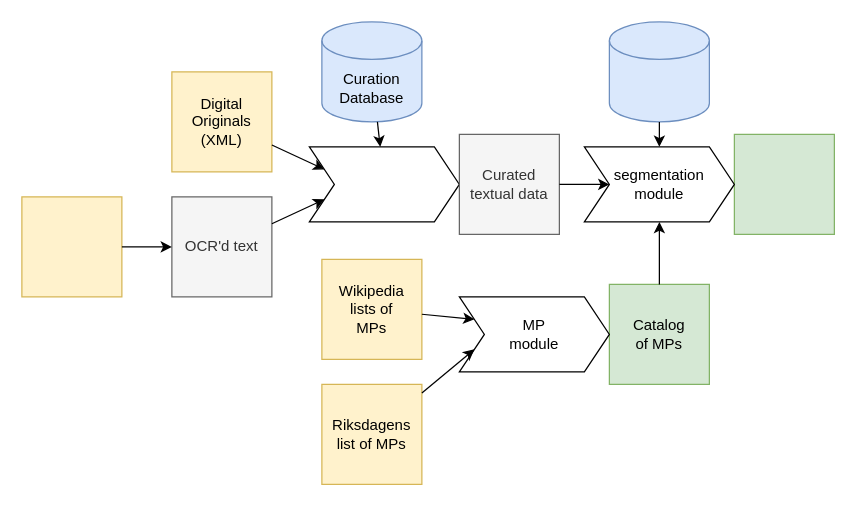
This 856x506 diagram has some shape labels left out. The centre of each missing label's shape, as x and y in pixels:
curation module: [383,184]
Original Images: [71,246]
Speech Segmentation Database: [658,71]
Speeches in ParlaClarin XML: [783,183]
